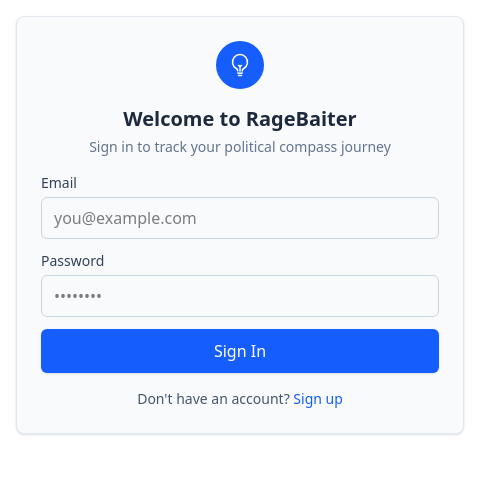
Test case: AuthGate › shows connection errors when fetch fails
Check: the button "Sign In" is shown, box [41, 329, 439, 373]
Step 1. Type "user@example.com" into the field labelled "Email" → (240, 218), box [41, 197, 439, 239]
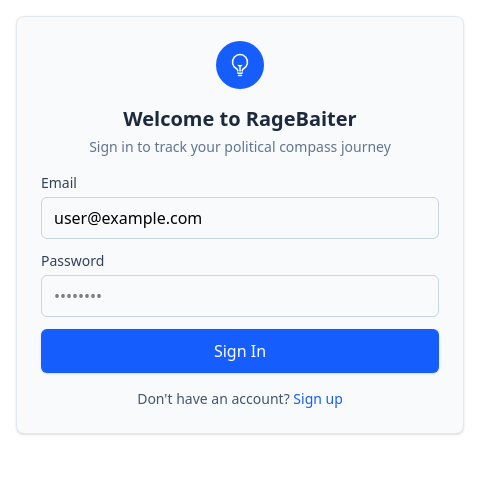
Step 2. Type "secret123" into the password field labelled "Password" → (240, 296), box [41, 275, 439, 317]
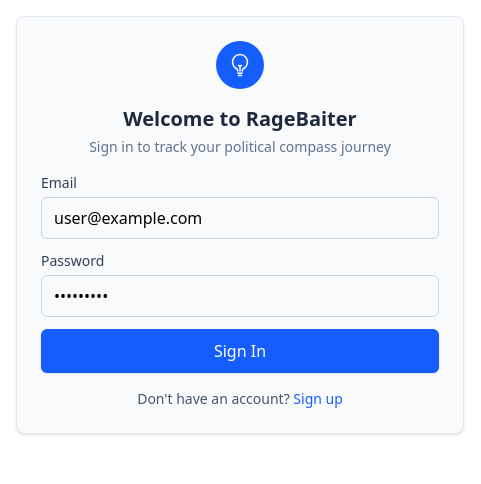
Step 3. Click the button "Sign In" → (240, 351), box [41, 329, 439, 373]
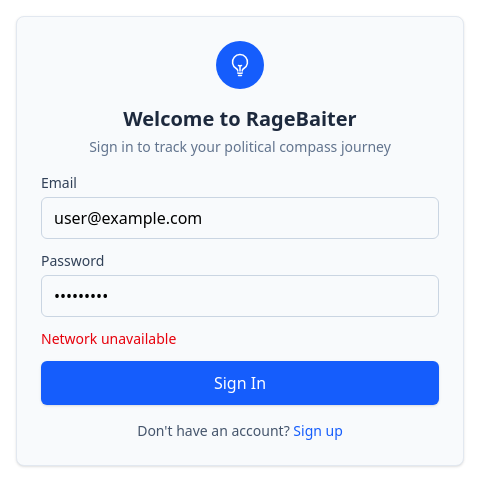
Check: the text "Network unavailable" is shown, box [41, 329, 176, 348]
